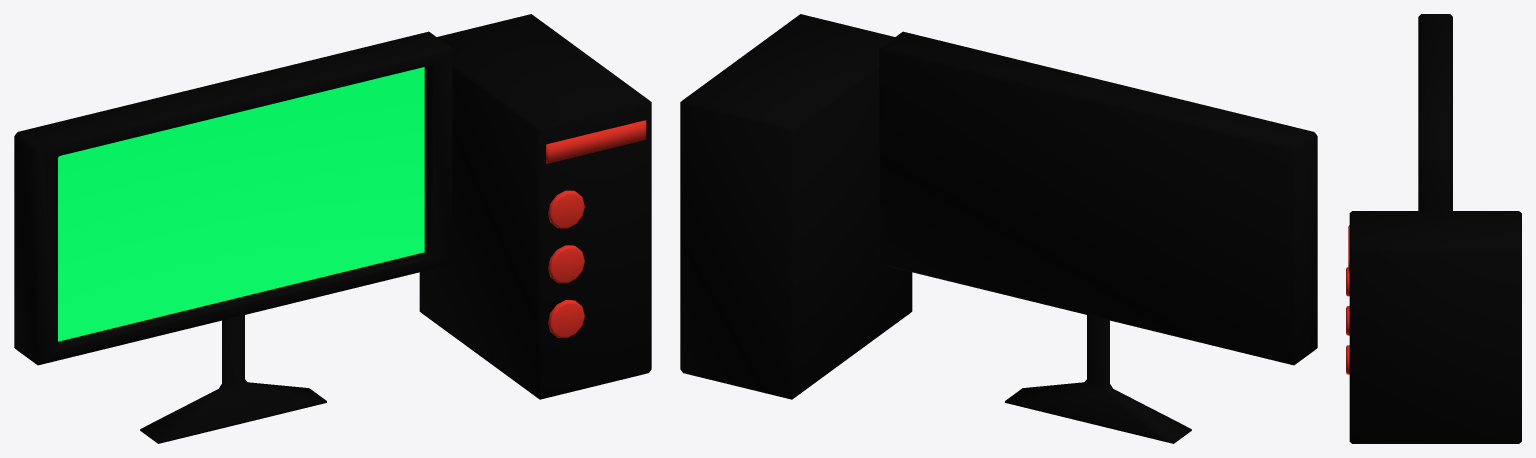
3 views of the same model, side by side, from view 1: azimuth 30°, elevation 25°; view 2: azimuth 150°, elevation 25°; view 3: azimuth 270°, elevation 25° (orthographic). The views are drawn at different scales.
Parts seen in each view (by area): view 1: Pc; view 2: Pc; view 3: Pc.
Part boxes in pixels (x1,y1,x2,y2): Pc: (14, 14, 651, 443); Pc: (680, 14, 1317, 443); Pc: (1346, 14, 1521, 443).
Bounding box in the file's own units: 131 × 72 × 48.93.
